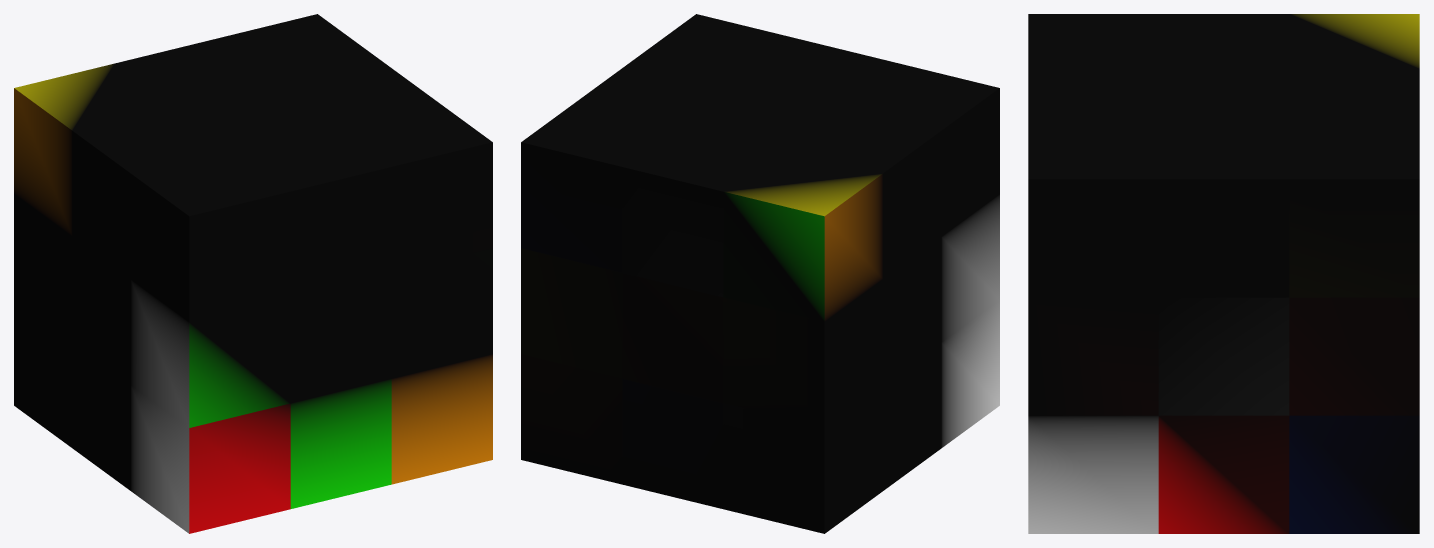
File: skin_4_2_model.fbx
3 renders of one model, left to right at view 1: azimuth 30°, elevation 25°; view 2: azimuth 150°, elevation 25°; view 3: azimuth 270°, elevation 25°, orthographic. The views are drawn at different scales.
Visible parts, largest first — view 1: Cube; view 2: Cube; view 3: Cube.
Part boxes in pixels (x1,y1,x2,y2): Cube: [14, 14, 492, 533]; Cube: [521, 14, 999, 533]; Cube: [1028, 14, 1419, 533].
Bounding box in the file's own units: 200 × 200 × 200.
